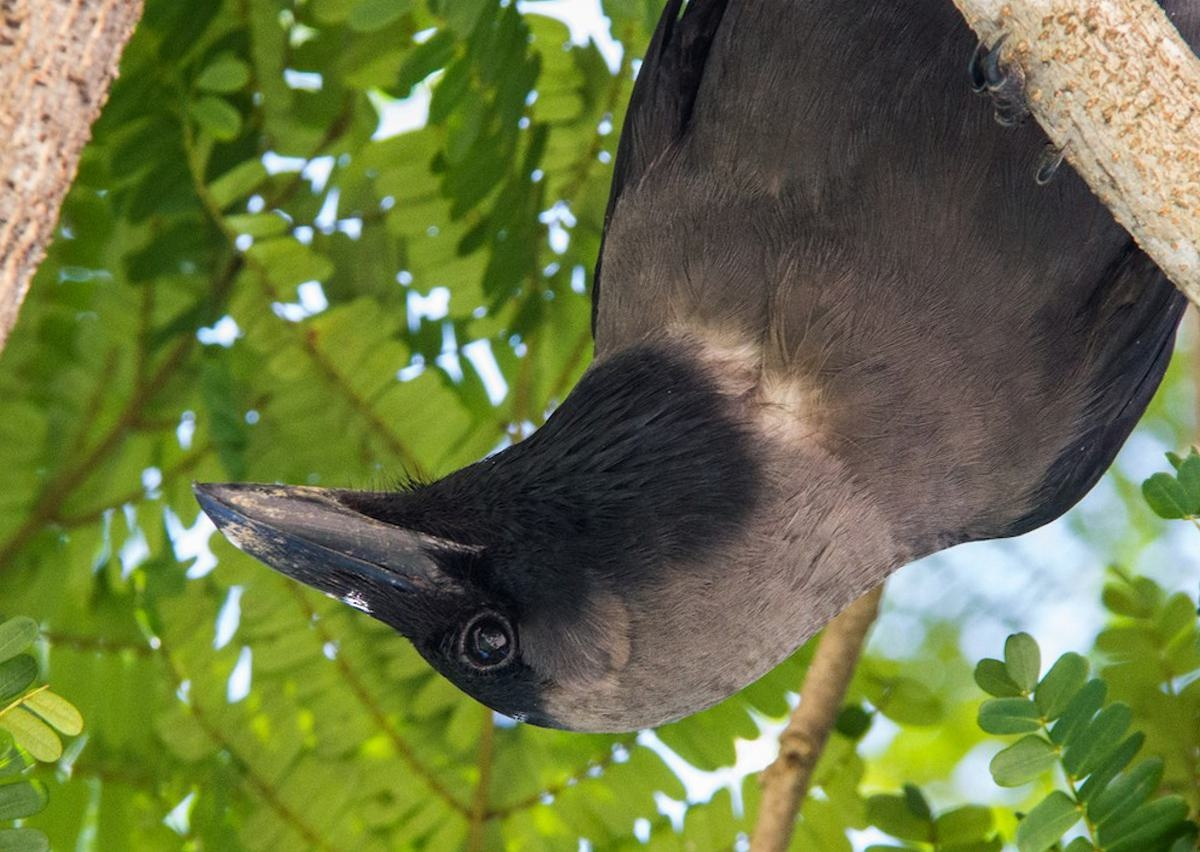crow: (176, 7, 1165, 742)
